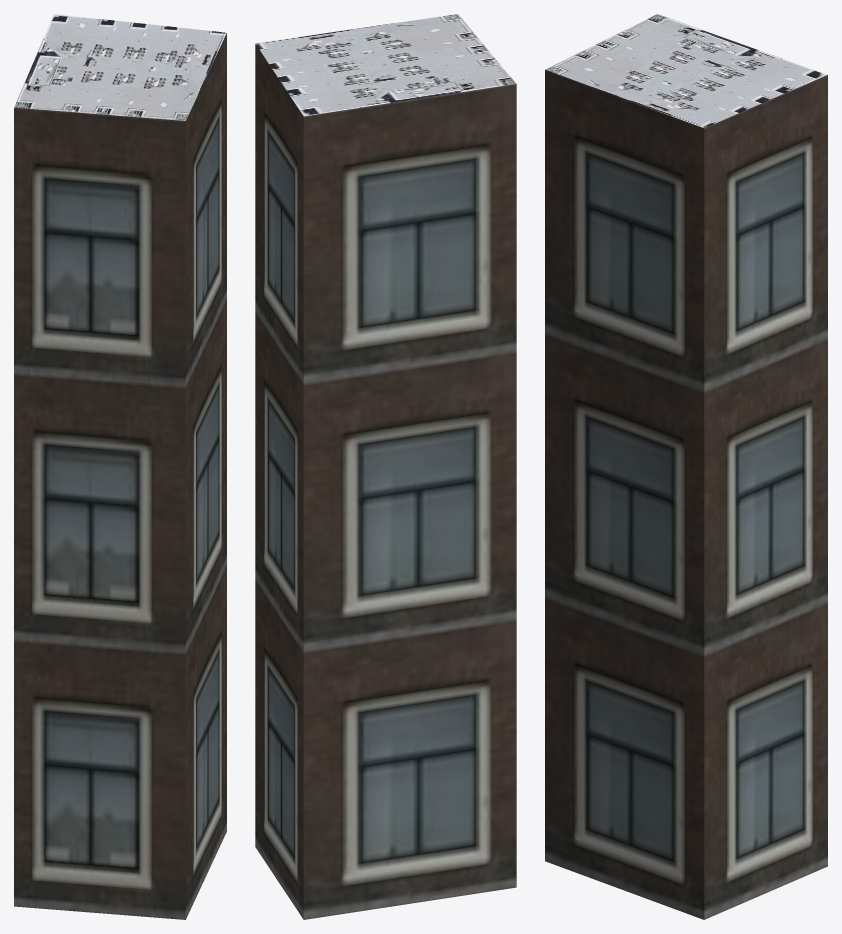
File: ResTex__1756.fbx
The picture shows the model from 3 angles, left to right: view 1: azimuth 30°, elevation 25°; view 2: azimuth 150°, elevation 25°; view 3: azimuth 270°, elevation 25°; orthographic projection.
Visible parts, largest first — view 1: CityEngineMaterial_16_m, CityEngineMaterial_15_m; view 2: CityEngineMaterial_16_m, CityEngineMaterial_15_m; view 3: CityEngineMaterial_16_m, CityEngineMaterial_15_m.
Part boxes in pixels (box(x1,y1,x2,y2)): CityEngineMaterial_16_m: box(14, 33, 226, 919); CityEngineMaterial_15_m: box(14, 14, 226, 120); CityEngineMaterial_16_m: box(255, 44, 516, 919); CityEngineMaterial_15_m: box(255, 14, 516, 116); CityEngineMaterial_16_m: box(545, 69, 827, 919); CityEngineMaterial_15_m: box(545, 14, 827, 127).
Size of the model in its own units: 2.79 by 9 by 2.91.
Materials: 2 (2 with a texture image).
